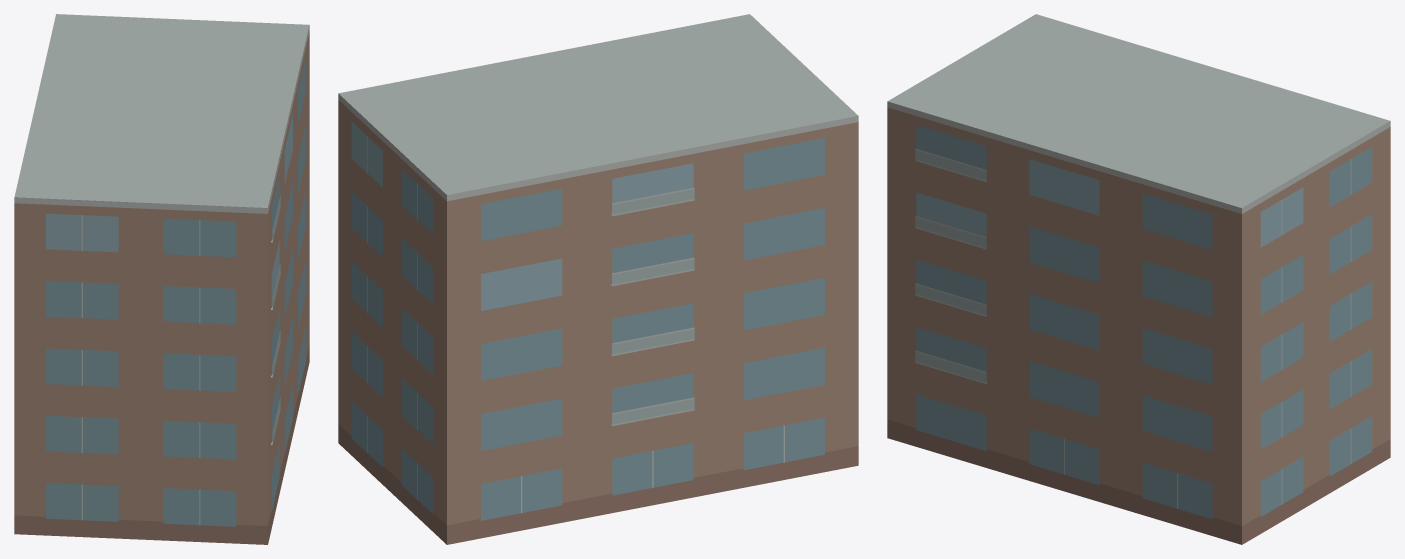
The model's file is survey-upis-33004542.glb.
The picture shows the model from 3 angles, left to right: view 1: azimuth 30°, elevation 25°; view 2: azimuth 150°, elevation 25°; view 3: azimuth 270°, elevation 25°; orthographic projection. The views are drawn at different scales.
Visible parts, largest first — view 1: survey-upis-33004542.tmp; view 2: survey-upis-33004542.tmp; view 3: survey-upis-33004542.tmp.
Boxes of the visible parts, box(x1,y1,x2,y2) form: survey-upis-33004542.tmp: box(14, 14, 309, 544); survey-upis-33004542.tmp: box(338, 14, 858, 544); survey-upis-33004542.tmp: box(887, 14, 1390, 544).
Size of the model in its own units: 17.2 by 13.9 by 18.84.
